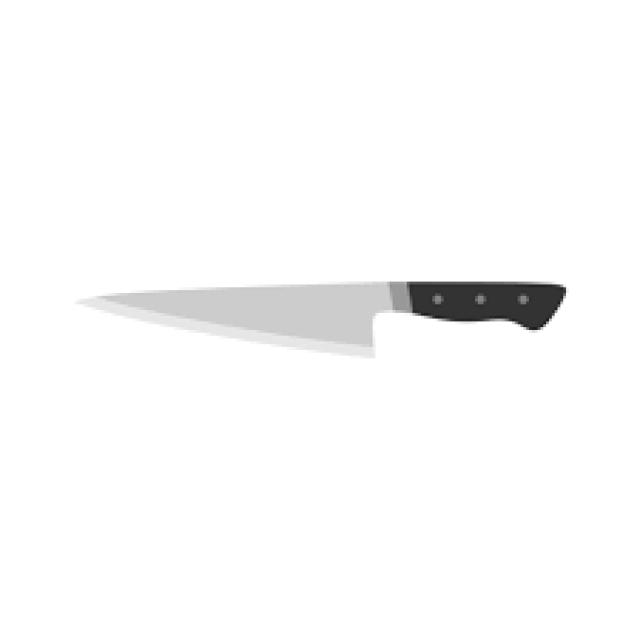Knife: (74, 279, 566, 358)
